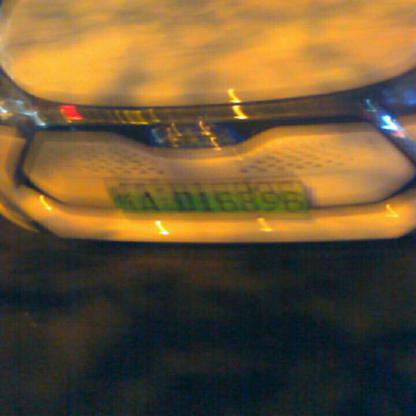lp: (107, 181, 305, 214)
